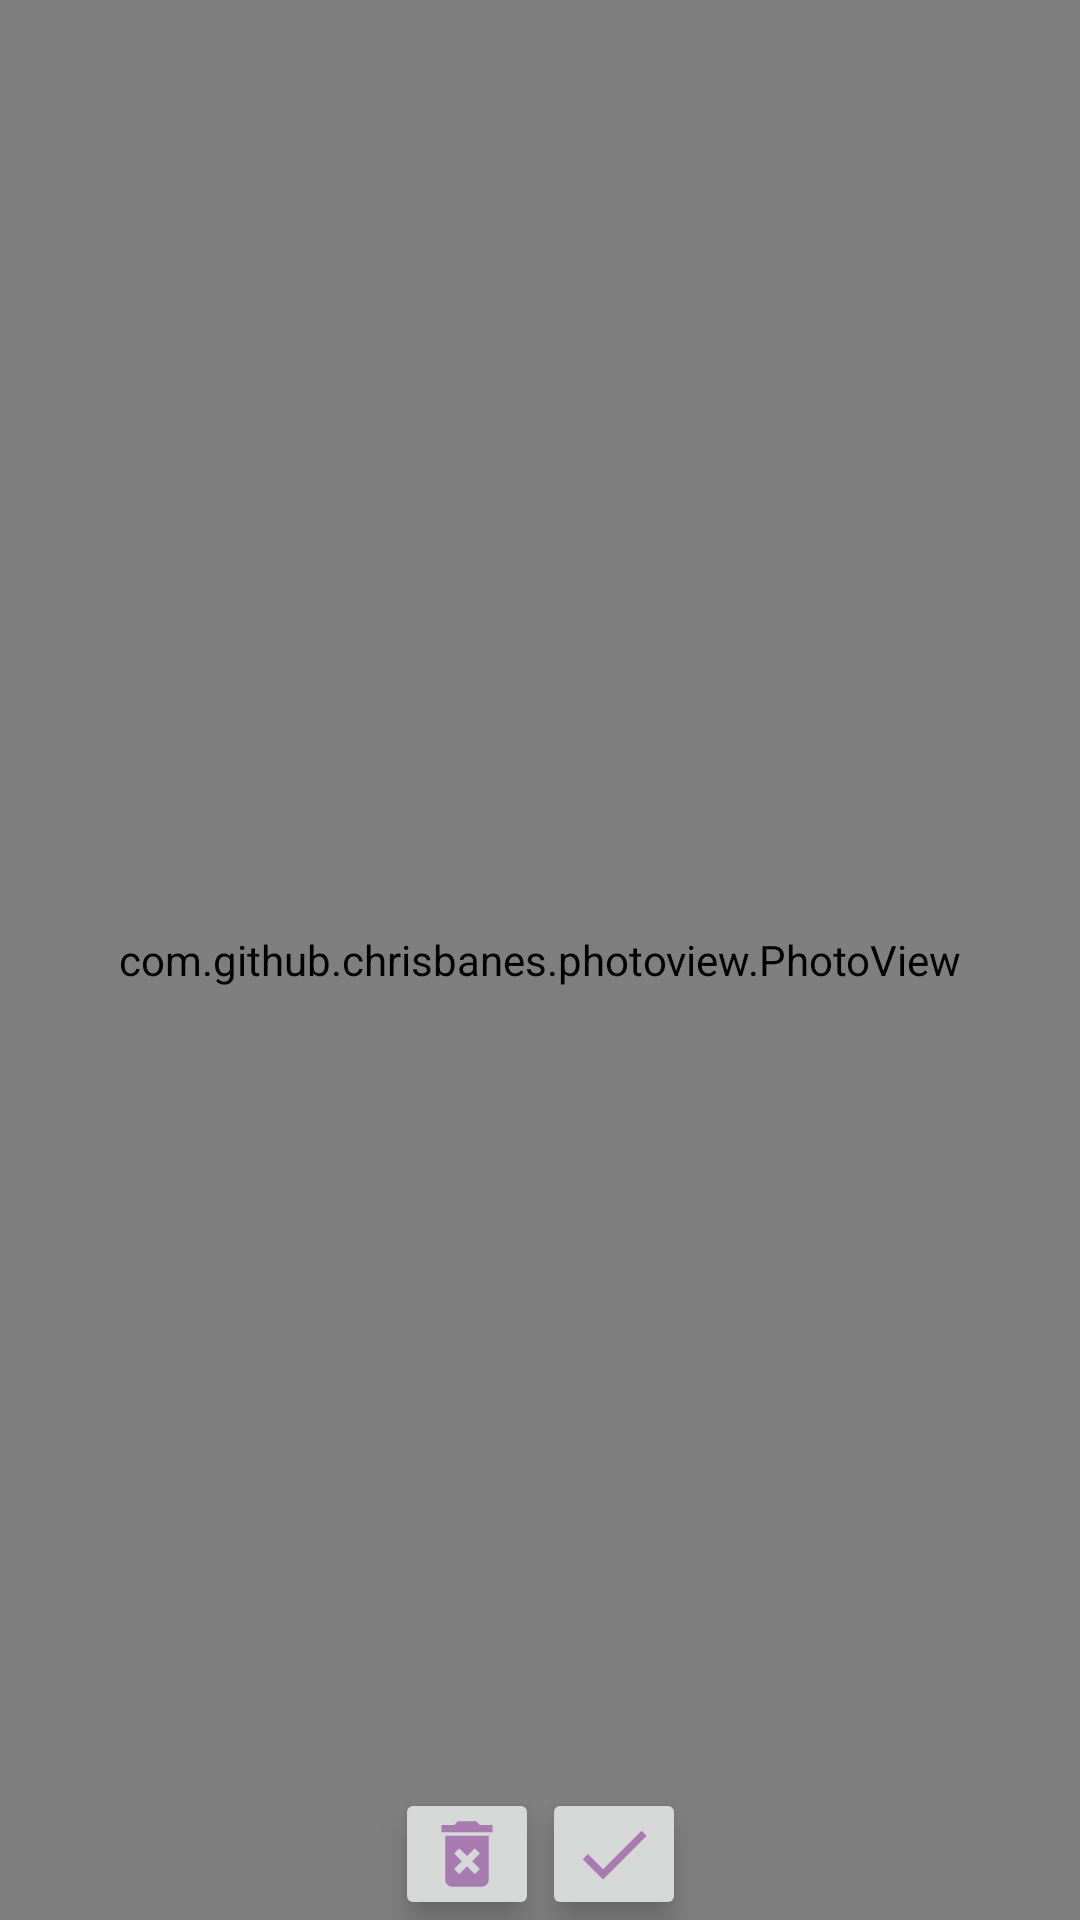

Point at icon controls on the screen. Image size 1080*1920, points as (x,y).
del: (467,1854)
save: (614,1854)
